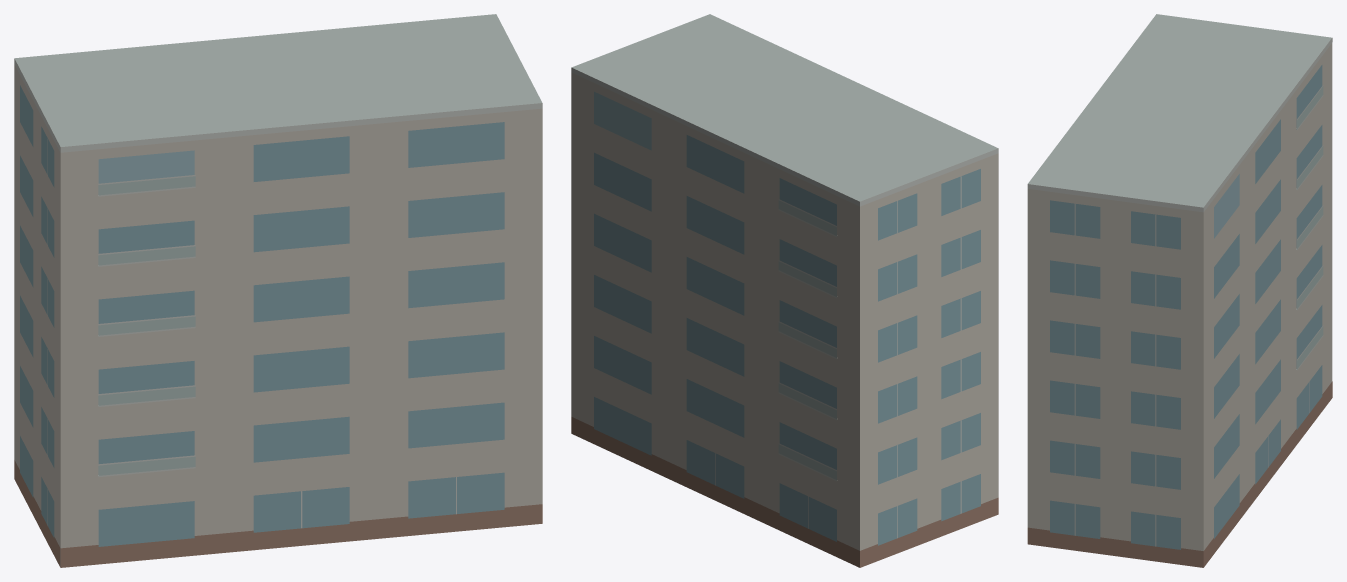
The model's file is survey-upis-32529465.glb.
The picture shows the model from 3 angles, left to right: view 1: azimuth 30°, elevation 25°; view 2: azimuth 150°, elevation 25°; view 3: azimuth 270°, elevation 25°; orthographic projection. The views are drawn at different scales.
Visible parts, largest first — view 1: survey-upis-32529465.tmp; view 2: survey-upis-32529465.tmp; view 3: survey-upis-32529465.tmp.
Part boxes in pixels (<box>): survey-upis-32529465.tmp: <box>14,14,542,567</box>; survey-upis-32529465.tmp: <box>571,14,998,567</box>; survey-upis-32529465.tmp: <box>1027,14,1332,567</box>.
Size of the model in its own units: 21.1 by 18.3 by 14.04.
